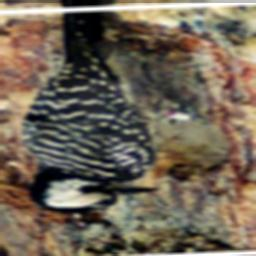Woodpecker: (0, 5, 231, 222)
